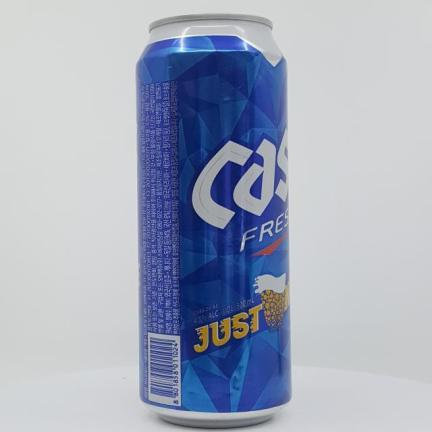can: (137, 14, 291, 427)
